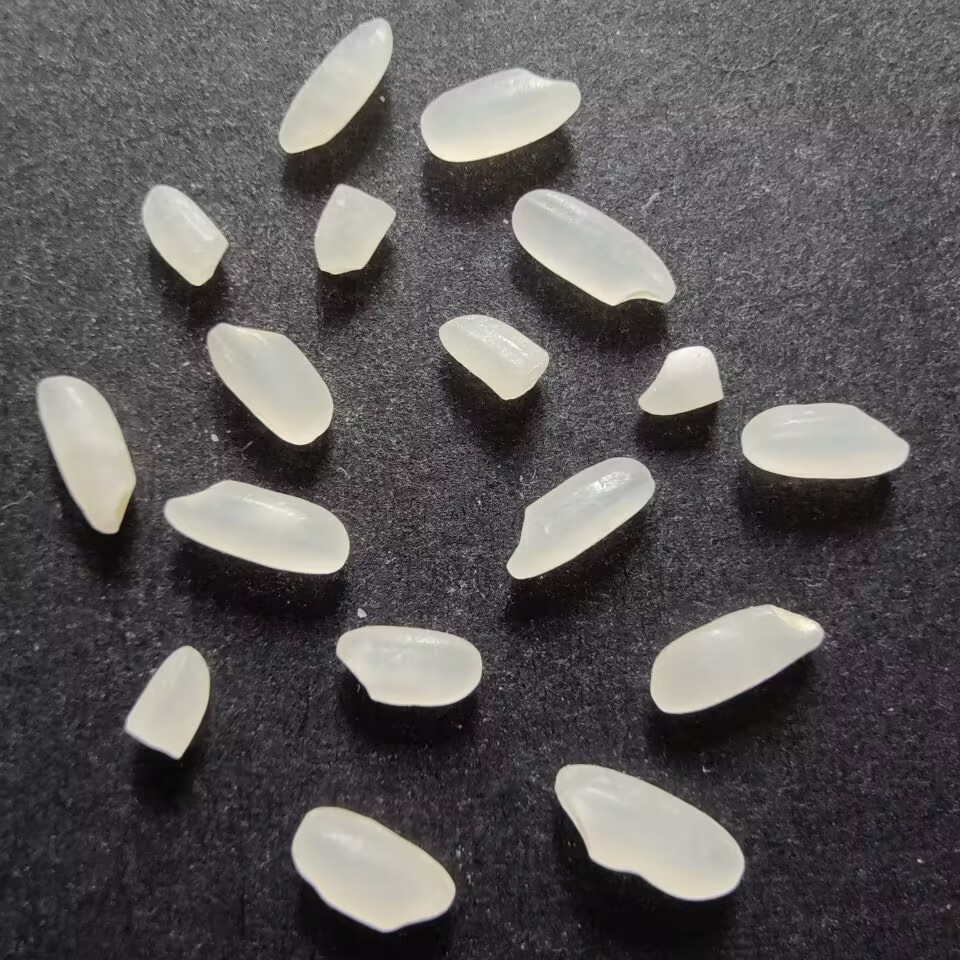broken: (117, 641, 216, 763), (435, 313, 554, 404), (137, 180, 232, 288), (310, 181, 398, 279), (636, 341, 727, 418)
rice: (548, 760, 752, 907), (287, 802, 456, 933), (646, 602, 829, 717), (511, 187, 678, 310), (501, 453, 660, 580), (156, 476, 350, 579), (32, 372, 139, 539), (204, 319, 338, 449), (275, 15, 398, 154), (416, 65, 584, 164), (739, 400, 916, 483), (329, 619, 487, 711)
